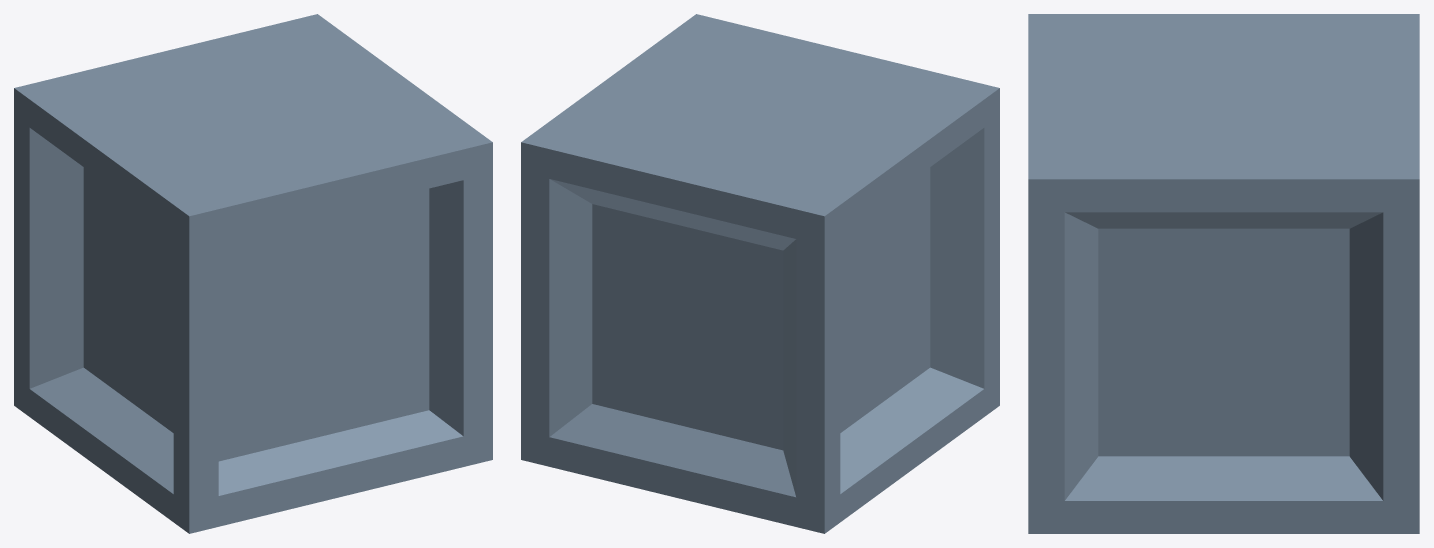
Rendered from crate.fbx.
3 renders of one model, left to right at view 1: azimuth 30°, elevation 25°; view 2: azimuth 150°, elevation 25°; view 3: azimuth 270°, elevation 25°, orthographic. The views are drawn at different scales.
Parts seen in each view (by area): view 1: Cube; view 2: Cube; view 3: Cube.
Part boxes in pixels (x1,y1,x2,y2): Cube: (14,14,492,533); Cube: (521,14,999,533); Cube: (1028,14,1419,533).
Bounding box in the file's own units: 200 × 200 × 200.
